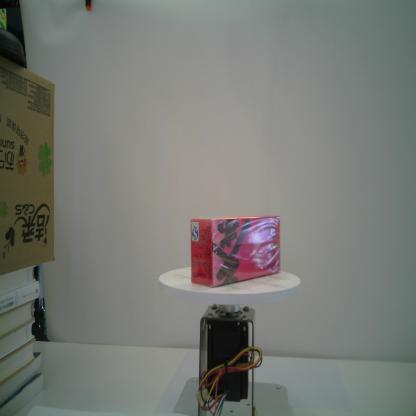Instant Drink: (190, 217, 280, 287)
